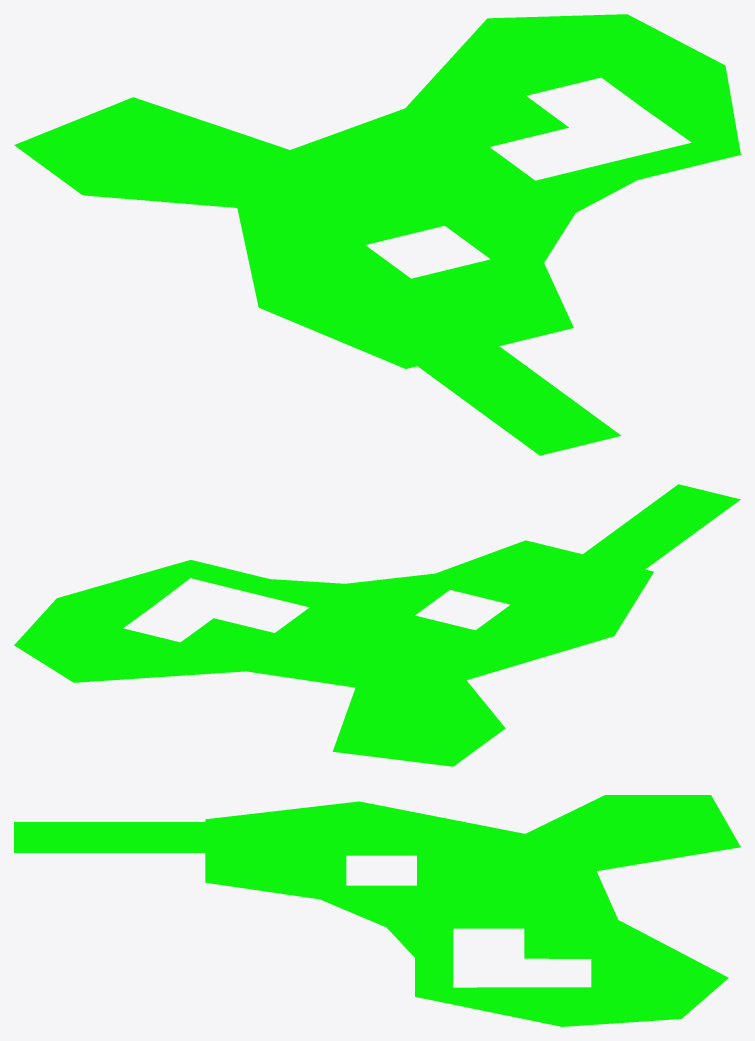
File: s03a_nc2-floor.glb
3 renders of one model, top to bottom at view 1: azimuth 30°, elevation 25°; view 2: azimuth 150°, elevation 25°; view 3: azimuth 270°, elevation 25°, orthographic. The views are drawn at different scales.
Parts seen in each view (by area): view 1: collision_floor-colonly; view 2: collision_floor-colonly; view 3: collision_floor-colonly.
Boxes of the visible parts, x1=… form: collision_floor-colonly: x1=14, y1=14, x2=740, y2=455; collision_floor-colonly: x1=14, y1=484, x2=740, y2=766; collision_floor-colonly: x1=14, y1=795, x2=740, y2=1026.
Bounding box in the file's own units: 45.11 × 0.0977 × 59.76.
